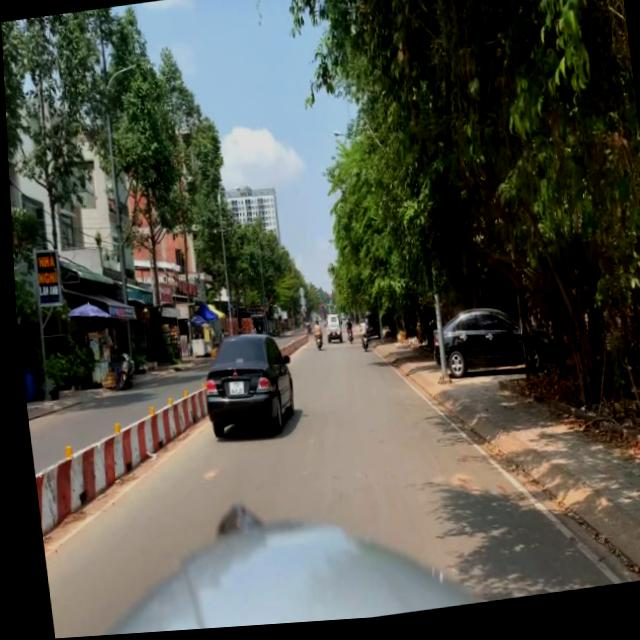Cam di nguoc chieu: (317, 306, 320, 311)
Vong chuong ngai vat sang phai: (317, 312, 320, 315)
